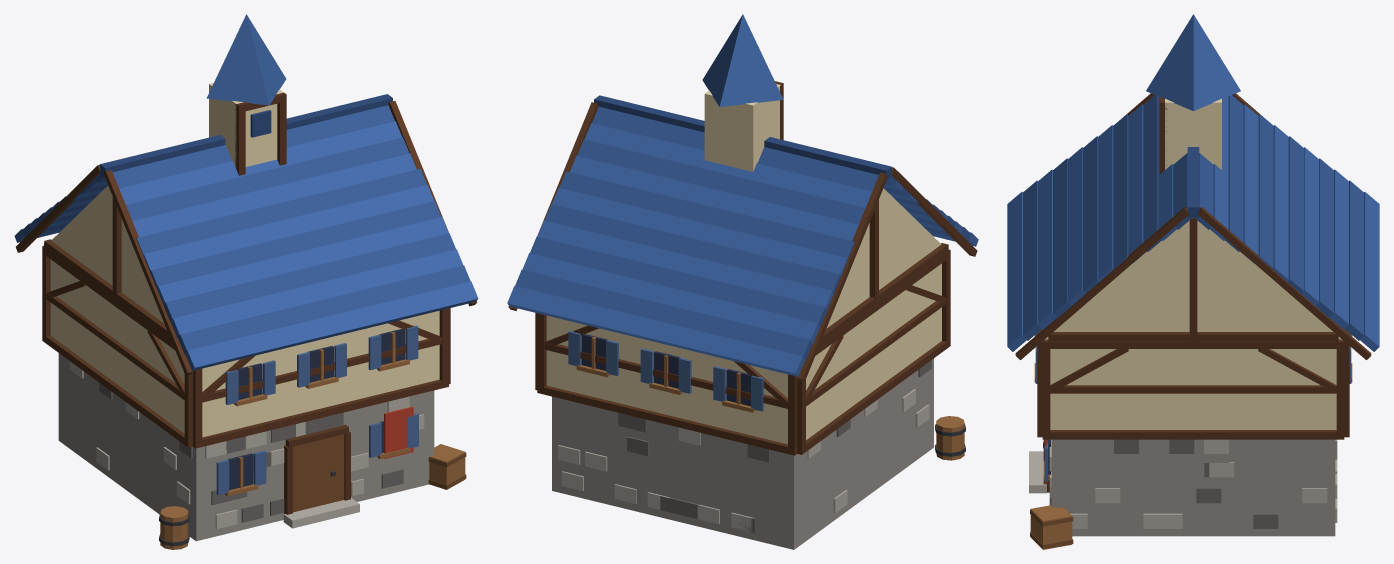
File: town_hall.glb
3 renders of one model, left to right at view 1: azimuth 30°, elevation 25°; view 2: azimuth 150°, elevation 25°; view 3: azimuth 270°, elevation 25°, orthographic. The views are drawn at different scales.
Parts seen in each view (by area): view 1: roof_blue, roof_blue_mid, plaster, timber, walls_low, shutter_blue, stone_light, plank_dark, plank, roof_blue_dark, stone_dark, window (+1 smaller); view 2: roof_blue, roof_blue_mid, walls_low, plaster, timber, stone_light, roof_blue_dark, shutter_blue, plank, stone_dark, window; view 3: plaster, roof_blue, roof_blue_mid, walls_low, timber, stone_light, stone_dark, plank, roof_blue_dark, plank_dark.
Boxes of the visible parts, x1,y1,x2,y2 form: roof_blue: [14, 14, 478, 370]; roof_blue_mid: [22, 105, 470, 354]; plaster: [50, 83, 439, 437]; timber: [16, 92, 477, 514]; walls_low: [58, 353, 434, 541]; shutter_blue: [216, 325, 418, 495]; stone_light: [70, 361, 424, 529]; plank_dark: [293, 434, 466, 512]; plank: [160, 332, 465, 549]; roof_blue_dark: [100, 94, 392, 177]; stone_dark: [99, 383, 403, 522]; window: [227, 329, 405, 490]; roof_blue: [507, 14, 978, 376]; roof_blue_mid: [515, 106, 971, 360]; walls_low: [552, 358, 933, 549]; plaster: [546, 84, 941, 444]; timber: [508, 81, 977, 455]; stone_light: [558, 389, 929, 532]; roof_blue_dark: [594, 95, 891, 180]; shutter_blue: [568, 330, 763, 411]; plank: [576, 336, 964, 460]; stone_dark: [618, 360, 931, 532]; window: [581, 334, 750, 406]; plaster: [1045, 98, 1341, 429]; roof_blue: [1007, 14, 1379, 351]; roof_blue_mid: [1023, 95, 1363, 340]; walls_low: [1051, 439, 1335, 536]; timber: [1015, 93, 1371, 492]; stone_light: [1029, 439, 1337, 528]; stone_dark: [1049, 439, 1337, 528]; plank: [1030, 335, 1352, 549]; roof_blue_dark: [1187, 147, 1199, 217]; plank_dark: [1030, 509, 1073, 549].
Bounding box in the file's own units: 3.13 × 4.49 × 3.28.
